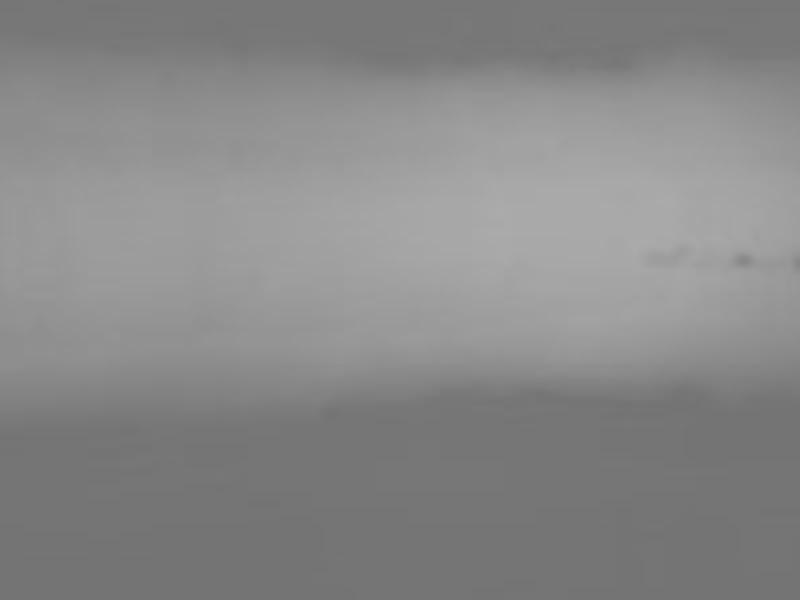defect: (651, 241, 691, 270), (730, 254, 756, 273)
